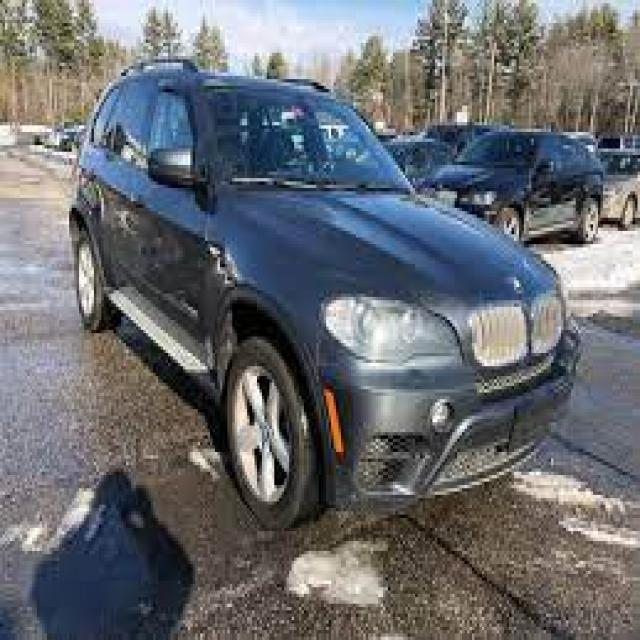minor: (196, 197, 245, 297)
